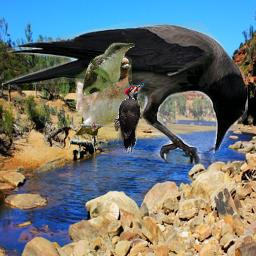Crow: (2, 22, 248, 165)
Cuckoo: (81, 42, 135, 96)
Swallow: (74, 54, 134, 137)
Woodpecker: (112, 81, 149, 153)
